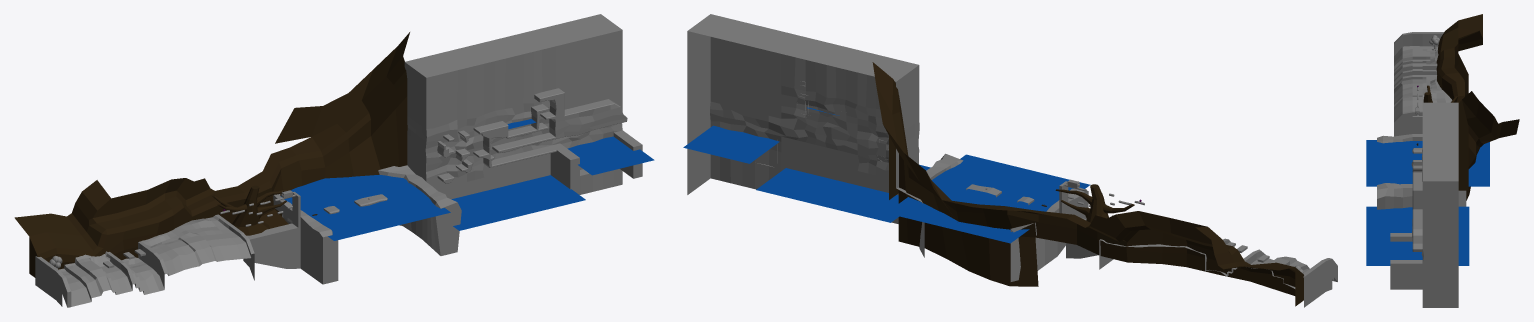
Rendered from Area 1.obj.
3 views of the same model, side by side, from view 1: azimuth 30°, elevation 25°; view 2: azimuth 150°, elevation 25°; view 3: azimuth 270°, elevation 25° (orthographic). The views are drawn at different scales.
Parts seen in each view (by area): view 1: polySurface55; view 2: polySurface55; view 3: polySurface55.
Part boxes in pixels (x1,y1,x2,y2): polySurface55: (14, 14, 654, 307); polySurface55: (683, 14, 1337, 307); polySurface55: (1366, 14, 1519, 307).
Size of the model in its own units: 1040 by 316 by 294.
